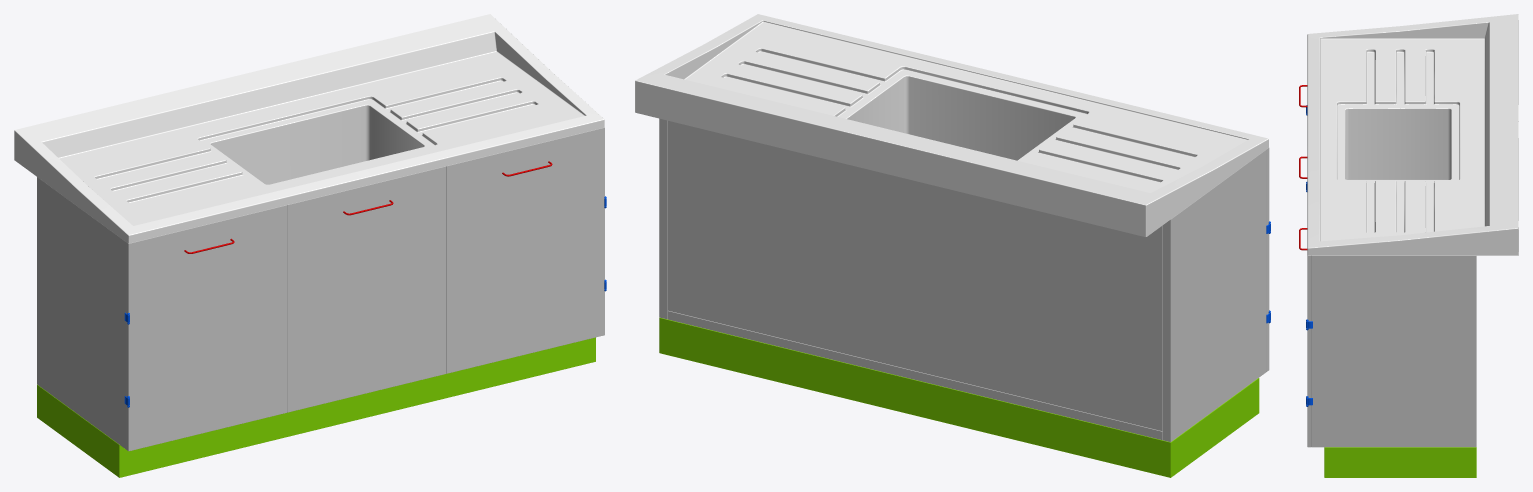
File: SinkBench01.fbx
3 renders of one model, left to right at view 1: azimuth 30°, elevation 25°; view 2: azimuth 150°, elevation 25°; view 3: azimuth 270°, elevation 25°, orthographic. The views are drawn at different scales.
Visible parts, largest first — view 1: Sink, Drawer01, SinkBench01, Drawer02, Drawer03; view 2: SinkBench01, Sink, Drawer01; view 3: Sink, SinkBench01, Drawer03.
Part boxes in pixels (bbox=[...]): Sink: bbox=[14, 14, 604, 243]; Drawer01: bbox=[126, 205, 287, 451]; SinkBench01: bbox=[37, 177, 606, 477]; Drawer02: bbox=[287, 166, 446, 412]; Drawer03: bbox=[446, 127, 604, 373]; SinkBench01: bbox=[659, 118, 1270, 477]; Sink: bbox=[635, 14, 1268, 236]; Drawer01: bbox=[1266, 148, 1269, 371]; Sink: bbox=[1307, 14, 1518, 255]; SinkBench01: bbox=[1306, 105, 1476, 477]; Drawer03: bbox=[1299, 228, 1311, 447].
Bounding box in the file's own units: 151 × 81.53 × 65.
